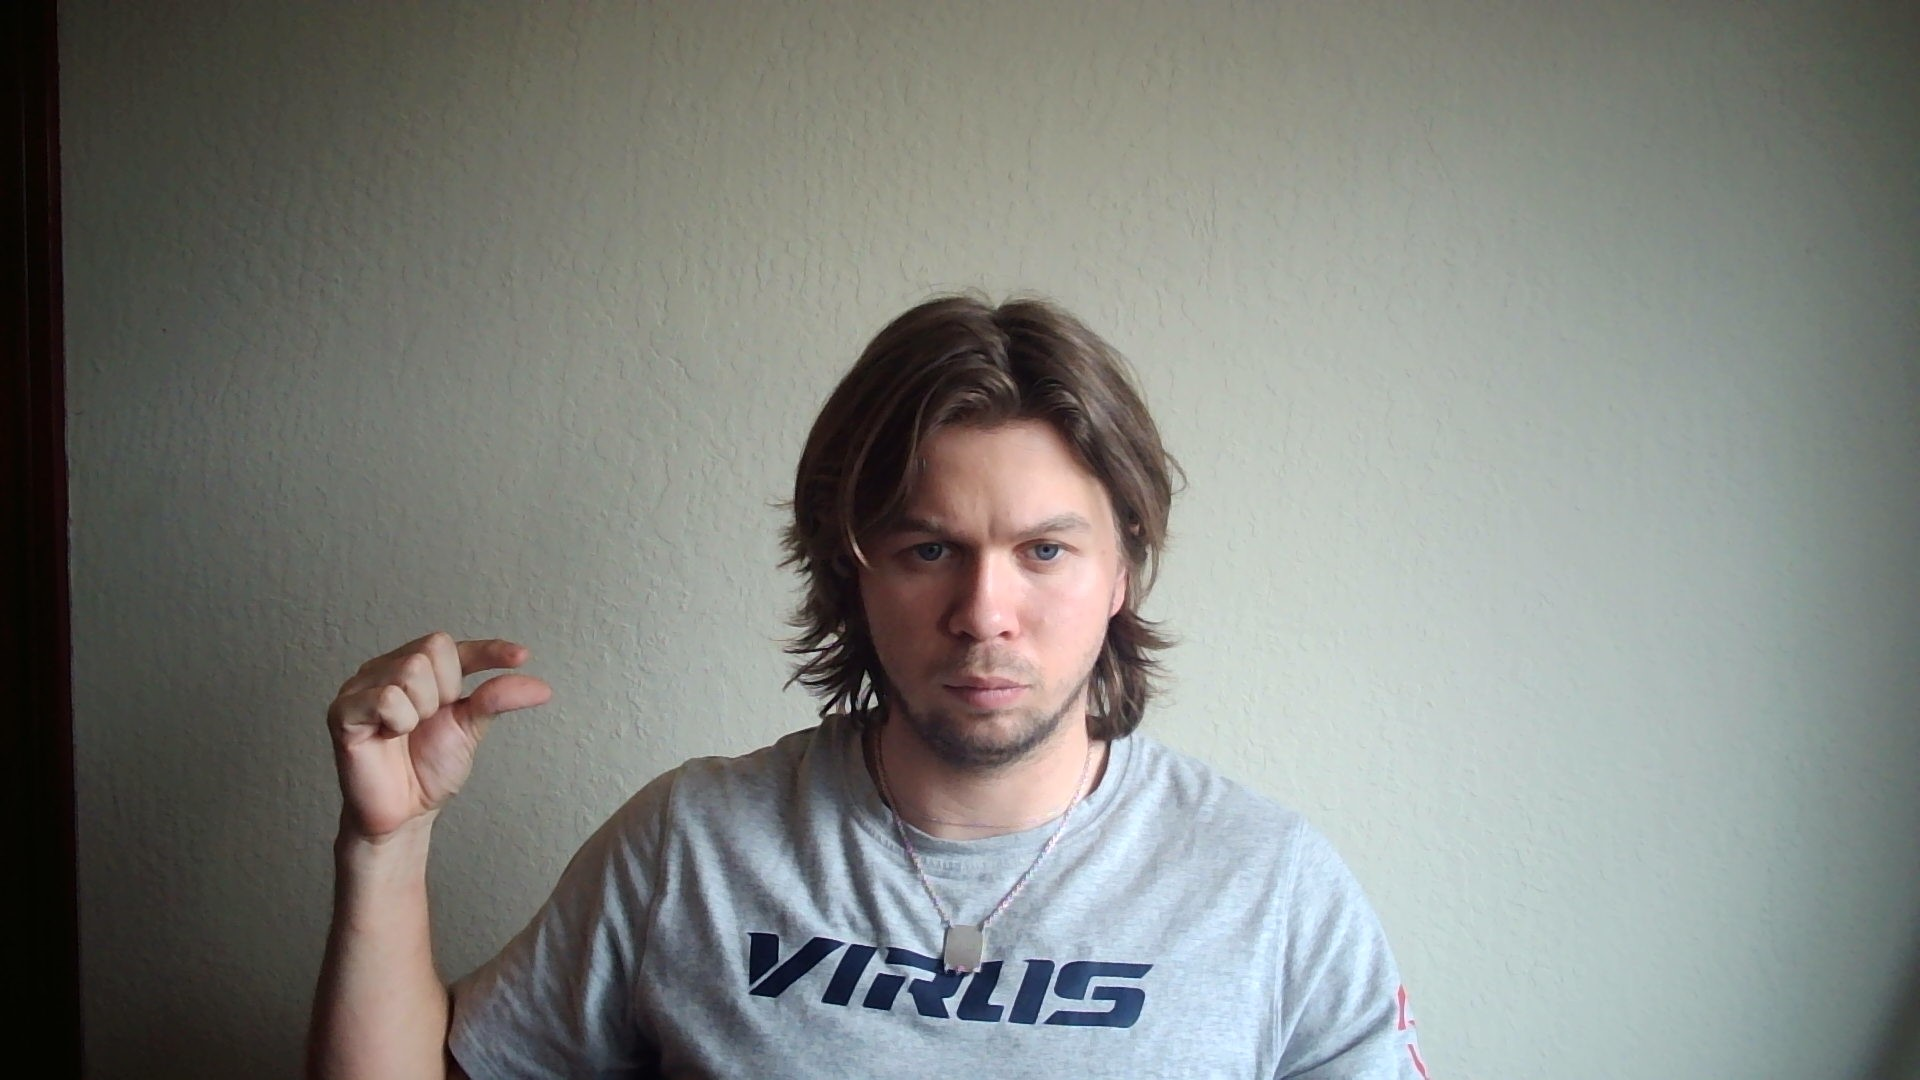small: (328, 632, 553, 836)
